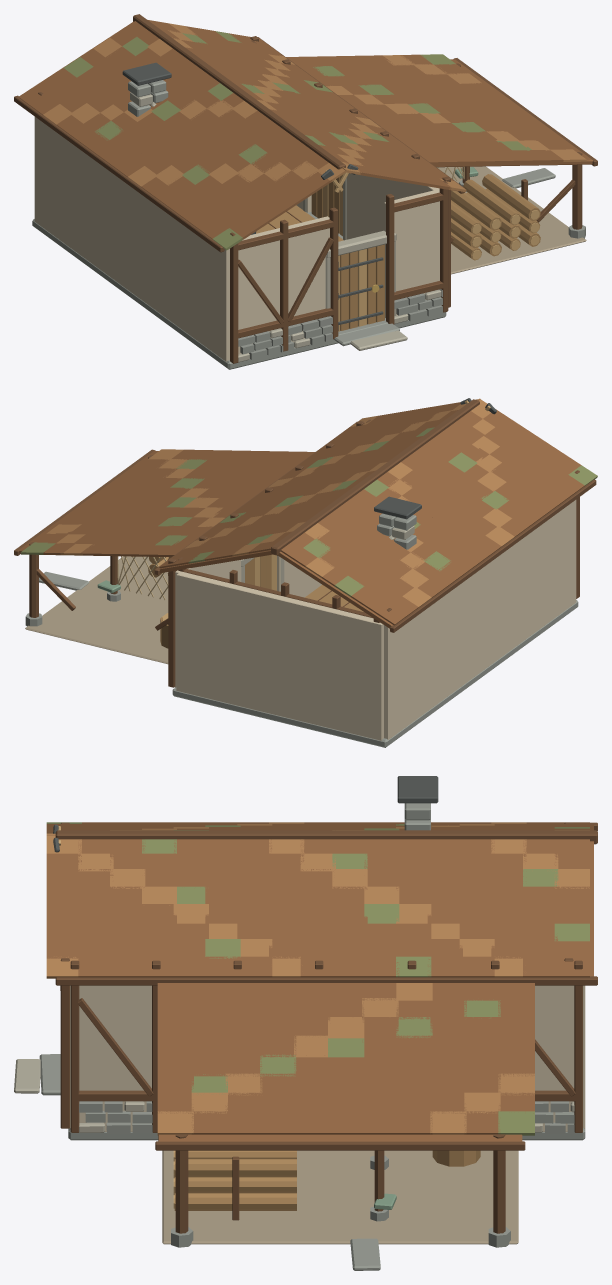
Rendered from holm_survival_workyard_v1.glb.
The picture shows the model from 3 angles, top to bottom: view 1: azimuth 30°, elevation 25°; view 2: azimuth 150°, elevation 25°; view 3: azimuth 270°, elevation 25°; orthographic projection. The views are drawn at different scales.
Parts seen in each view (by area): view 1: Roof_Workyard_Shingle_Umber, Static_Workyard_Warm_Limewash, Static_Workyard_Oak_Dark, Roof_Workyard_Shingle_Sun, Static_Workyard_Fieldstone, Static_Workyard_Oak_Worn, Roof_Workyard_Shingle_Moss, Roof_Workyard_Oak_Dark, Static_Workyard_Packed_Earth, Static_Workyard_Fieldstone_Light, trail_door_Workyard_Oak_Worn, Static_Workyard_Fresh_Cut (+5 smaller); view 2: Roof_Workyard_Shingle_Umber, Static_Workyard_Warm_Limewash, Roof_Workyard_Shingle_Sun, Static_Workyard_Packed_Earth, Roof_Workyard_Oak_Dark, Roof_Workyard_Shingle_Moss, Static_Workyard_Oak_Dark, Static_Workyard_Fieldstone, Static_Workyard_Oak_Worn, Roof_Workyard_Forged_Iron, Roof_Workyard_Fieldstone, net_rack_Workyard_Hemp_Rope (+1 smaller); view 3: Roof_Workyard_Shingle_Umber, Static_Workyard_Packed_Earth, Roof_Workyard_Shingle_Sun, Roof_Workyard_Oak_Dark, Static_Workyard_Warm_Limewash, Static_Workyard_Oak_Dark, Roof_Workyard_Shingle_Moss, Static_Workyard_Oak_Worn, Static_Workyard_Fieldstone, Static_Workyard_Fieldstone_Light, Roof_Workyard_Forged_Iron, Roof_Workyard_Fieldstone.
Part boxes in pixels (x1,y1,x2,y2): Roof_Workyard_Shingle_Umber: (19,20,592,239); Static_Workyard_Warm_Limewash: (34,117,439,361); Static_Workyard_Oak_Dark: (38,36,582,363); Roof_Workyard_Shingle_Sun: (43,23,586,192); Static_Workyard_Fieldstone: (32,168,585,369); Static_Workyard_Oak_Worn: (256,174,540,260); Roof_Workyard_Shingle_Moss: (64,31,531,250); Roof_Workyard_Oak_Dark: (14,14,597,252); Static_Workyard_Packed_Earth: (437,166,586,274); Static_Workyard_Fieldstone_Light: (238,177,441,362); trail_door_Workyard_Oak_Worn: (340,244,384,330); Static_Workyard_Fresh_Cut: (472,210,539,259); Roof_Workyard_Shingle_Umber: (19,402,584,628); Static_Workyard_Warm_Limewash: (174,500,576,740); Roof_Workyard_Shingle_Sun: (46,398,514,607); Static_Workyard_Packed_Earth: (25,556,168,664); Roof_Workyard_Oak_Dark: (14,399,596,632); Roof_Workyard_Shingle_Moss: (20,427,597,596); Static_Workyard_Oak_Dark: (29,419,579,687); Static_Workyard_Fieldstone: (25,571,578,747); Static_Workyard_Oak_Worn: (148,556,363,648); Roof_Workyard_Forged_Iron: (374,398,496,519); Roof_Workyard_Fieldstone: (377,513,416,549); net_rack_Workyard_Hemp_Rope: (117,556,168,599); Roof_Workyard_Shingle_Umber: (46,822,593,1141); Static_Workyard_Packed_Earth: (162,1150,518,1244); Roof_Workyard_Shingle_Sun: (46,822,589,1135); Roof_Workyard_Oak_Dark: (55,822,597,1150); Static_Workyard_Warm_Limewash: (69,985,585,1131); Static_Workyard_Oak_Dark: (60,822,582,1233); Roof_Workyard_Shingle_Moss: (46,822,589,1135); Static_Workyard_Oak_Worn: (174,1150,480,1210); Static_Workyard_Fieldstone: (39,1054,585,1270); Static_Workyard_Fieldstone_Light: (14,1059,574,1132); Roof_Workyard_Forged_Iron: (53,776,438,852); Roof_Workyard_Fieldstone: (404,803,430,830).
Size of the model in its own units: 17.58 by 7.06 by 15.08.
